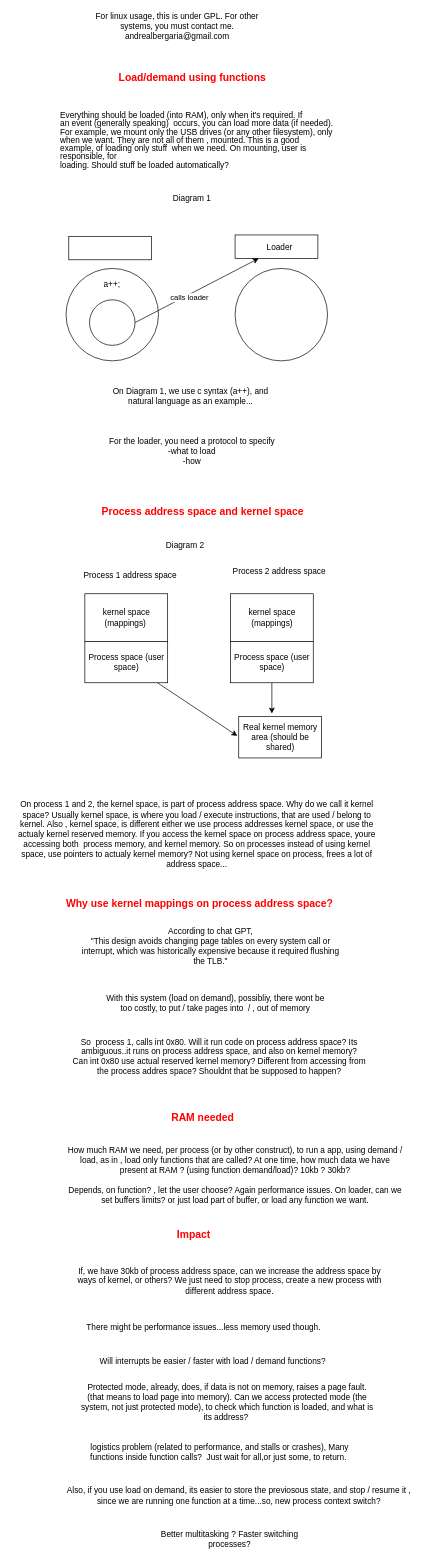
This 426x1561 diagram has some shape labels left out. Each missing label, with the centre of its shape:
Loads func1 into memory.: [281,314]
run func1: [112,322]
Running app: [110,248]
